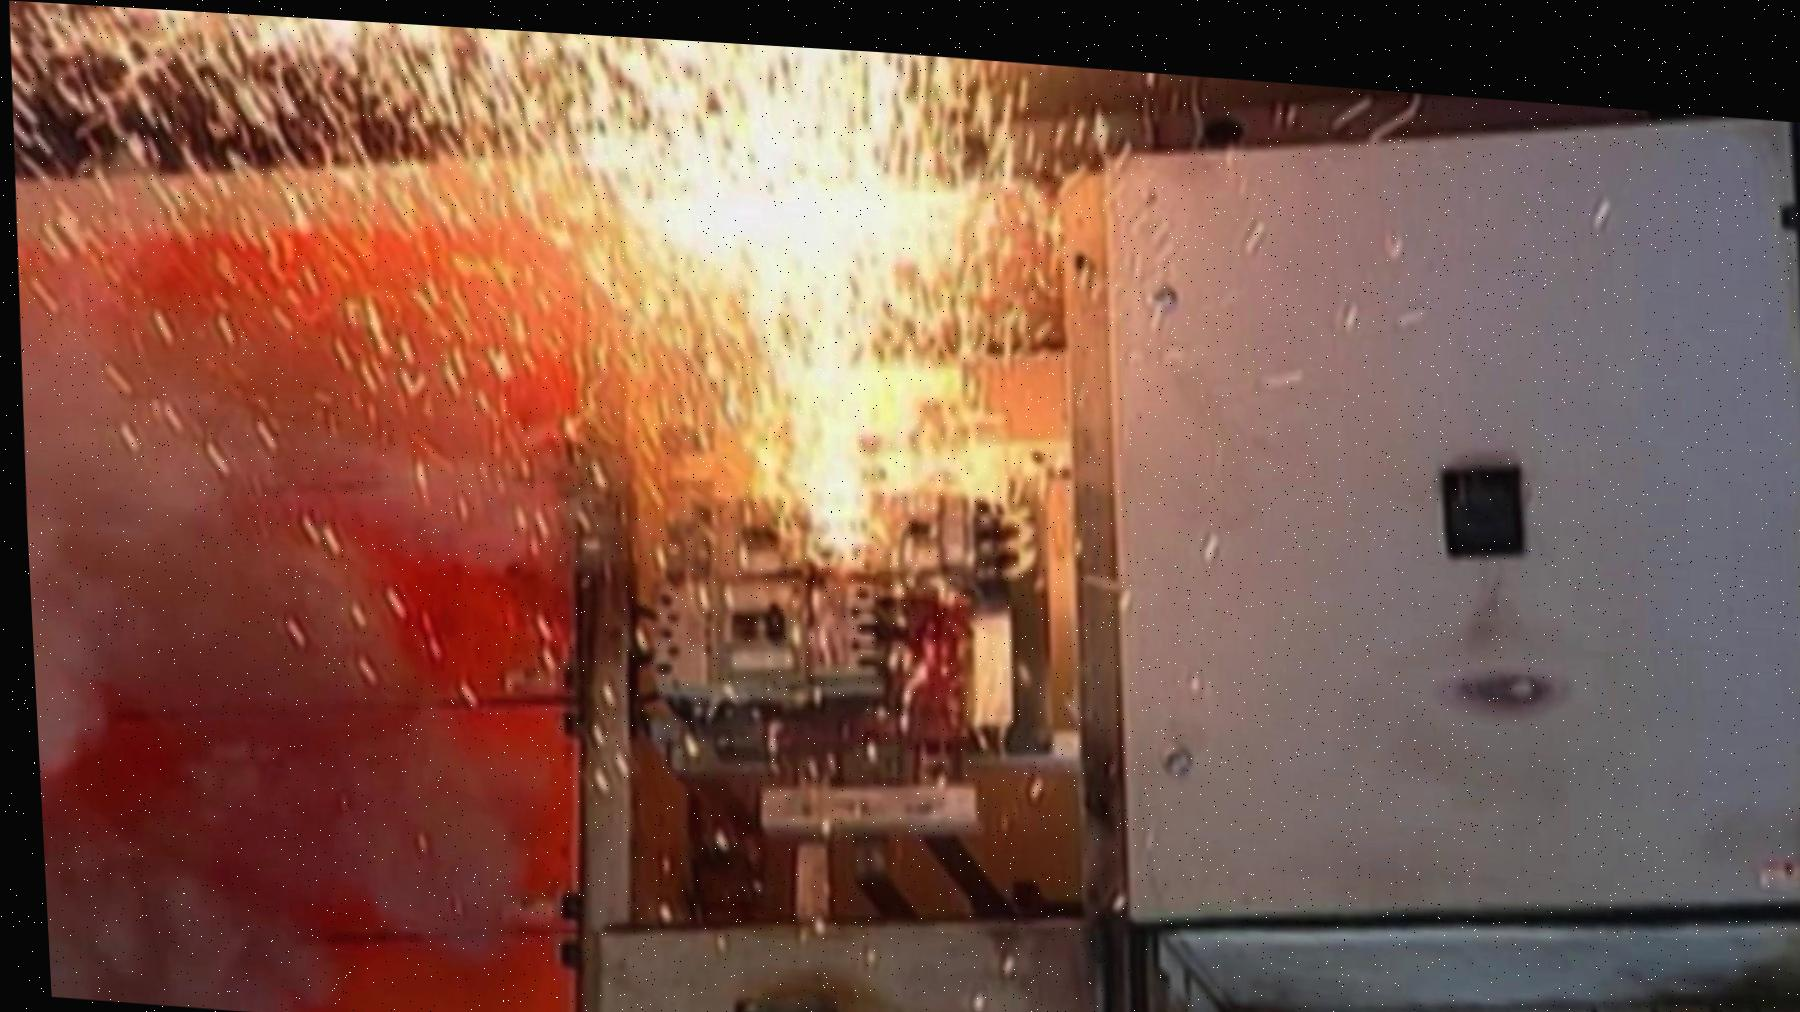fire: (180, 101, 1620, 911), (1, 1, 1062, 547)
